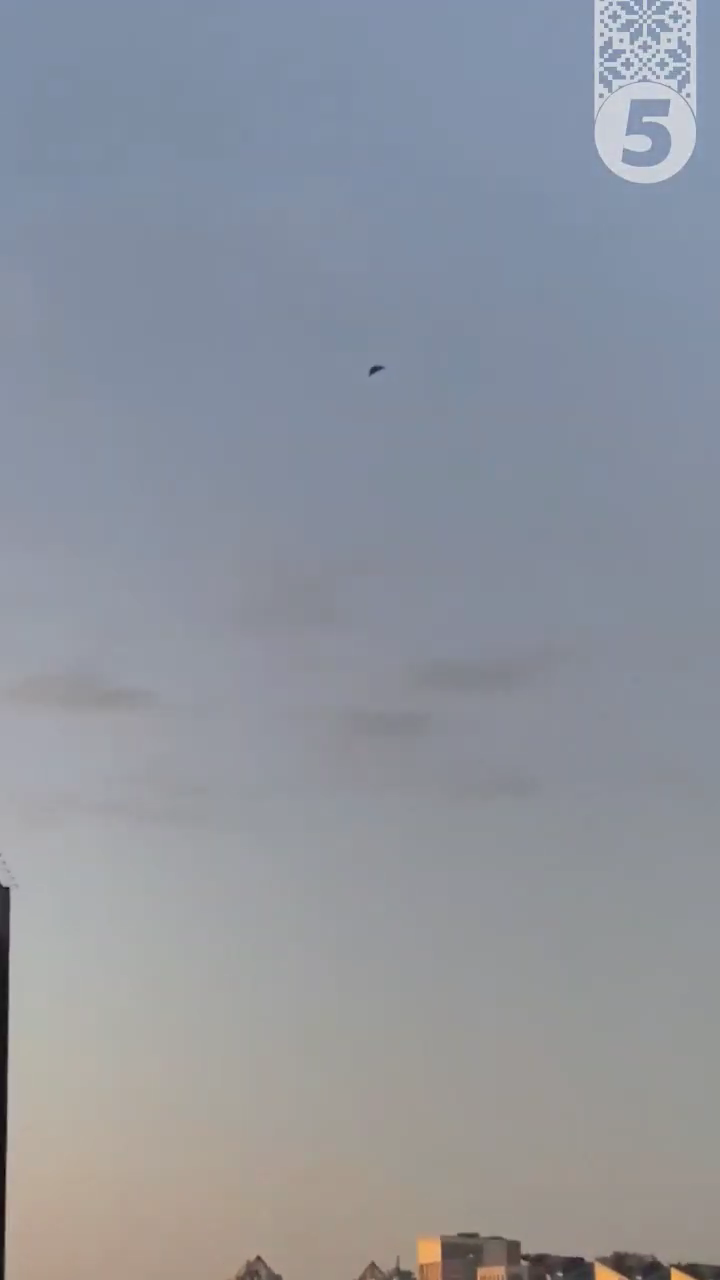shahed: (367, 362, 387, 378)
